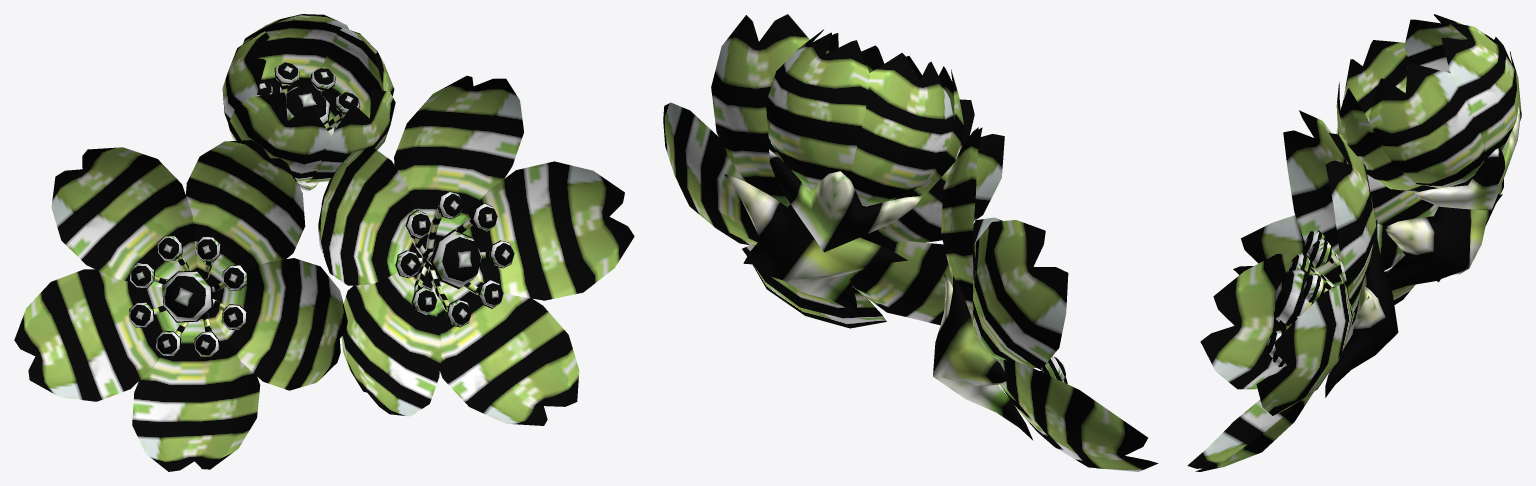
The model's file is pm0700_00_Rig.fbx.
The picture shows the model from 3 angles, left to right: view 1: azimuth 30°, elevation 25°; view 2: azimuth 150°, elevation 25°; view 3: azimuth 270°, elevation 25°; orthographic projection. The views are drawn at different scales.
Visible parts, largest first — view 1: doodad_spring_2023_flower; view 2: doodad_spring_2023_flower; view 3: doodad_spring_2023_flower.
Part boxes in pixels (bbox=[...]): doodad_spring_2023_flower: bbox=[14, 14, 634, 471]; doodad_spring_2023_flower: bbox=[663, 14, 1158, 471]; doodad_spring_2023_flower: bbox=[1187, 14, 1521, 471].
Size of the model in its own units: 0.1144 by 0.0773 by 0.0598.
